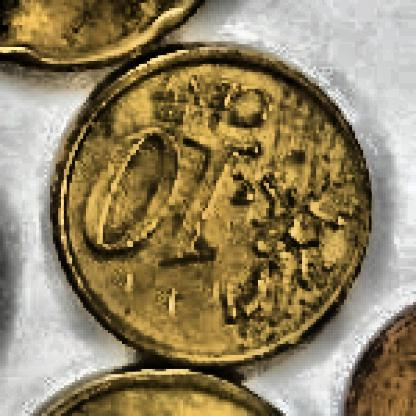coin: (49, 42, 376, 367)
